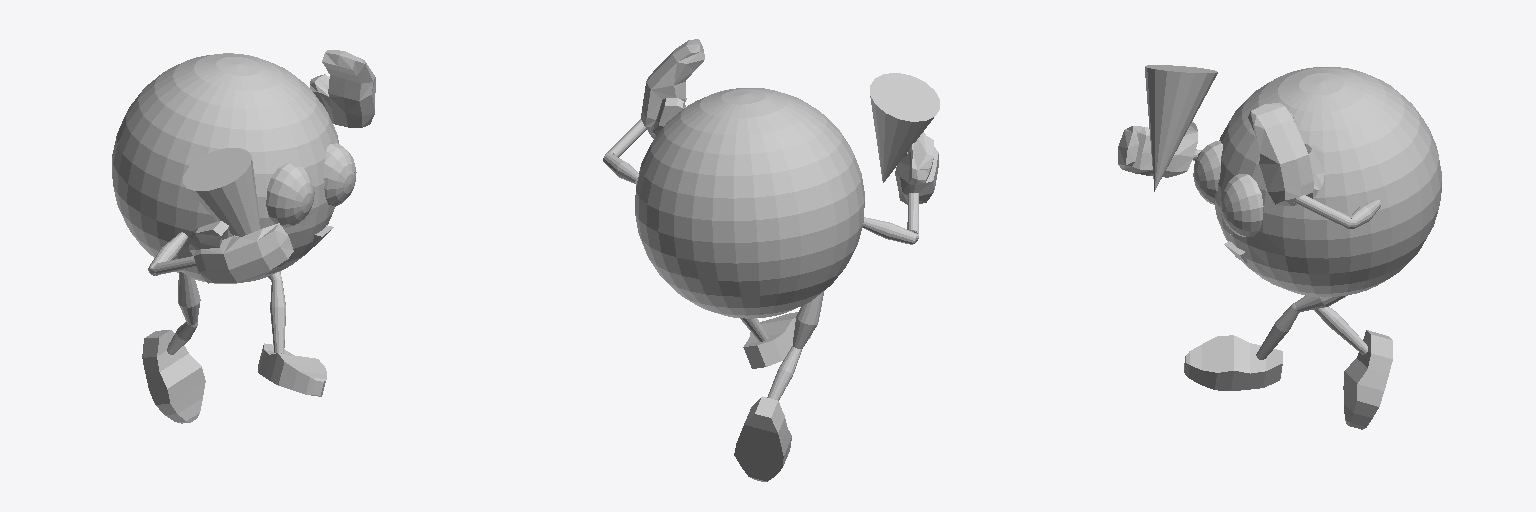
Rendered from jump_000011.obj.
The picture shows the model from 3 angles: view 1: azimuth 30°, elevation 25°; view 2: azimuth 150°, elevation 25°; view 3: azimuth 270°, elevation 25°; orthographic projection.
Parts seen in each view (by area): view 1: Rusko_Sphere; view 2: Rusko_Sphere; view 3: Rusko_Sphere.
Boxes of the visible parts, x1,y1,x2,y2 form: Rusko_Sphere: [112, 50, 375, 423]; Rusko_Sphere: [603, 39, 939, 481]; Rusko_Sphere: [1118, 65, 1441, 429].
Size of the model in its own units: 5.13 by 7.19 by 5.62.